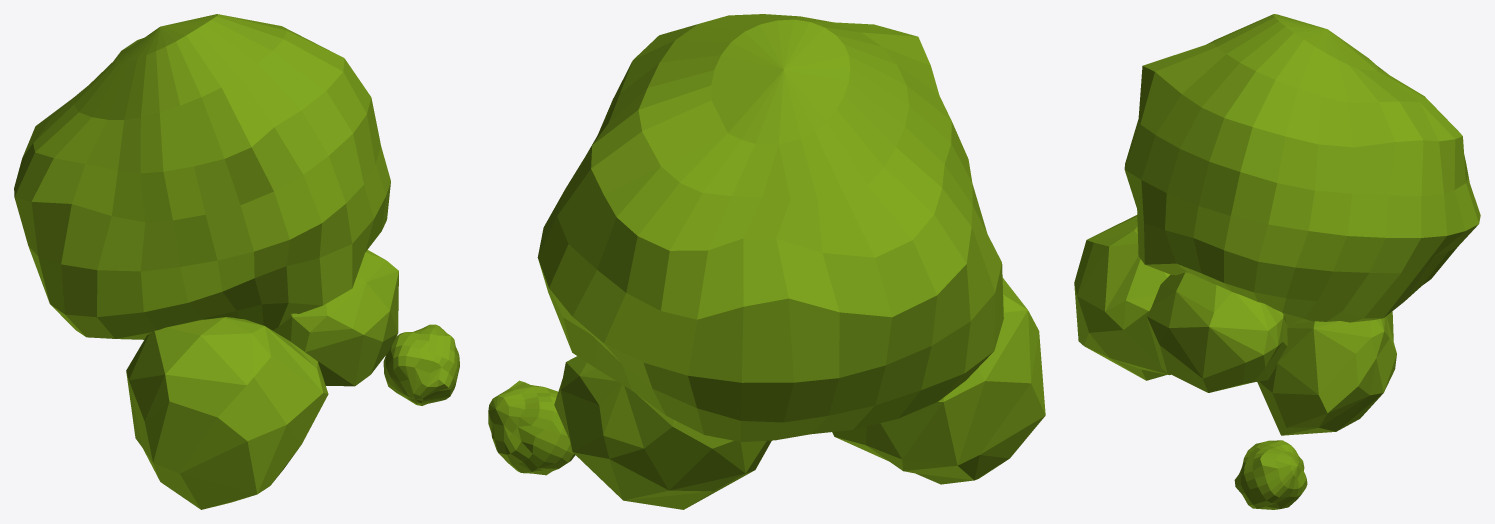
The model's file is tree-summer-leaves-9-052.glb.
3 renders of one model, left to right at view 1: azimuth 30°, elevation 25°; view 2: azimuth 150°, elevation 25°; view 3: azimuth 270°, elevation 25°, orthographic. The views are drawn at different scales.
Parts seen in each view (by area): view 1: TREE 9_301; view 2: TREE 9_301; view 3: TREE 9_301.
Boxes of the visible parts, <box> form: TREE 9_301: <box>14,14,459,509</box>; TREE 9_301: <box>488,14,1045,509</box>; TREE 9_301: <box>1074,14,1480,509</box>.
Bounding box in the file's own units: 1.3 × 1.3 × 1.22.
